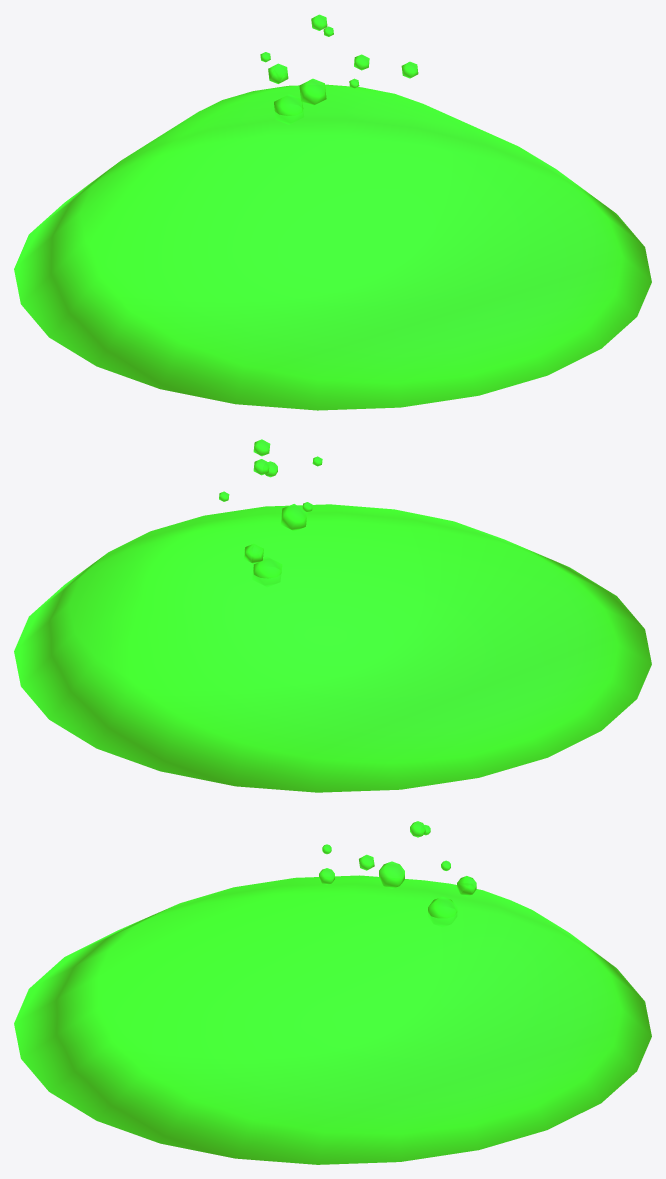
File: Acid_Pond_01.fbx
The picture shows the model from 3 angles, top to bottom: view 1: azimuth 30°, elevation 25°; view 2: azimuth 150°, elevation 25°; view 3: azimuth 270°, elevation 25°; orthographic projection.
Parts seen in each view (by area): view 1: Acid_Pond_01; view 2: Acid_Pond_01; view 3: Acid_Pond_01.
Part boxes in pixels (left/top/right/bottom): Acid_Pond_01: left=14, top=14, right=651, bottom=410; Acid_Pond_01: left=14, top=439, right=651, bottom=792; Acid_Pond_01: left=14, top=821, right=651, bottom=1164.
Size of the model in its own units: 340 by 131 by 340.
